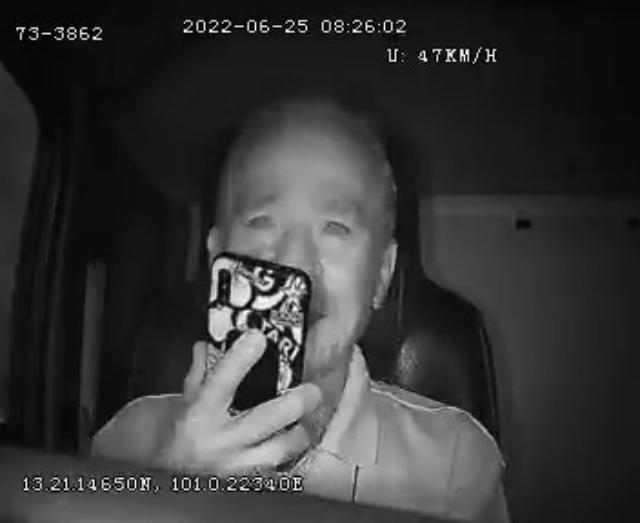PhoneUse: (210, 252, 310, 428)
SafeDriving: (314, 200, 360, 249), (236, 199, 284, 235)
